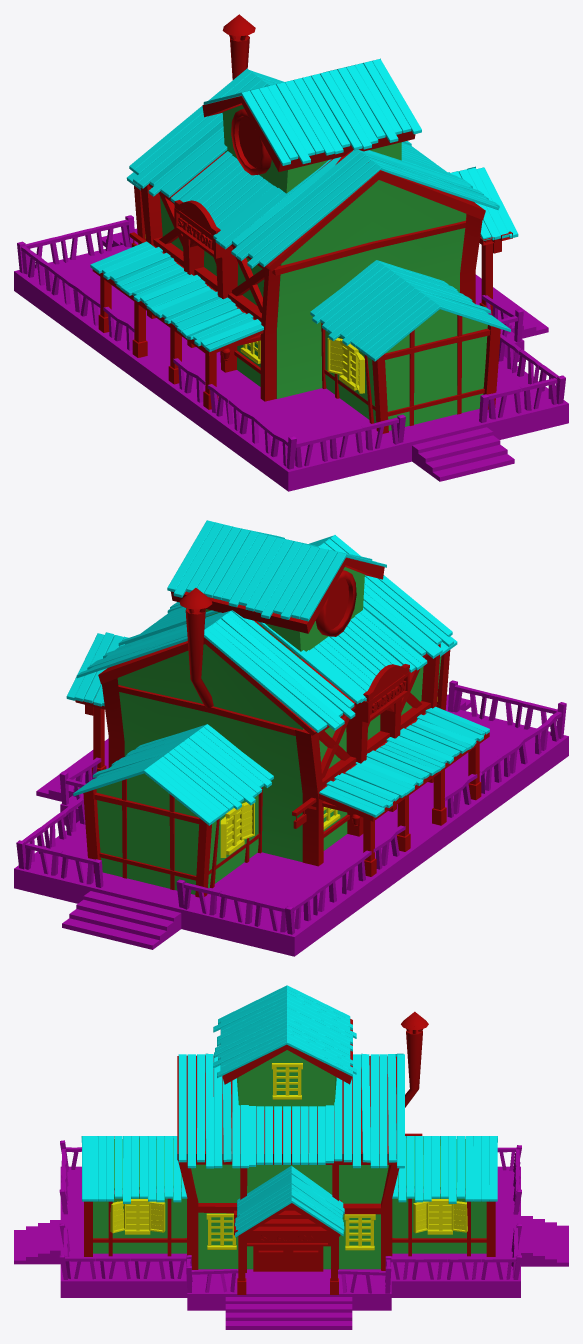
Rendered from station.fbx.
3 views of the same model, one above another, from view 1: azimuth 30°, elevation 25°; view 2: azimuth 150°, elevation 25°; view 3: azimuth 270°, elevation 25° (orthographic). The views are drawn at different scales.
Parts seen in each view (by area): view 1: gare; view 2: gare; view 3: gare.
Part boxes in pixels (x1,y1,x2,y2): gare: (14,14,568,491); gare: (14,520,568,956); gare: (14,985,568,1329).
Size of the model in its own units: 1350 by 1012 by 2142.
